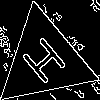H: (19, 35, 75, 94)
